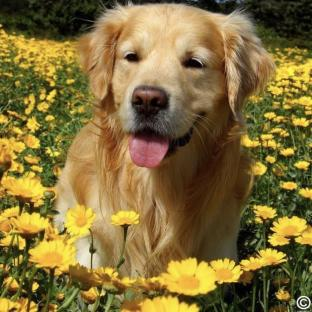Animal: (55, 4, 275, 277)
